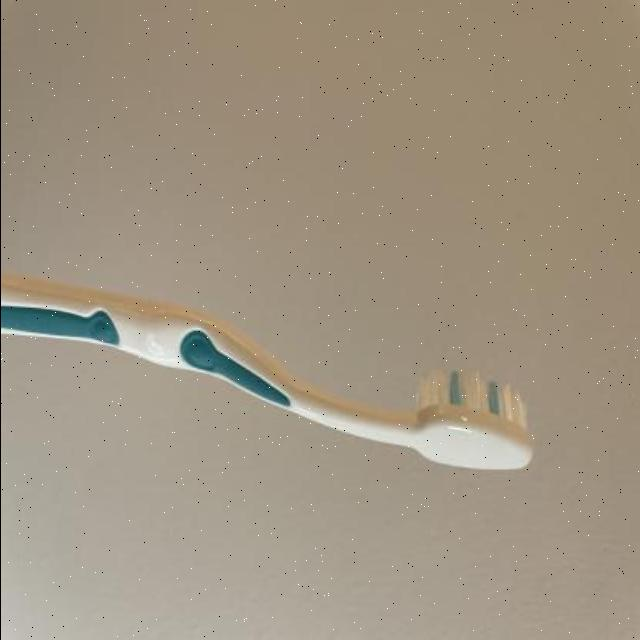toothbrush: (0, 269, 544, 485)
